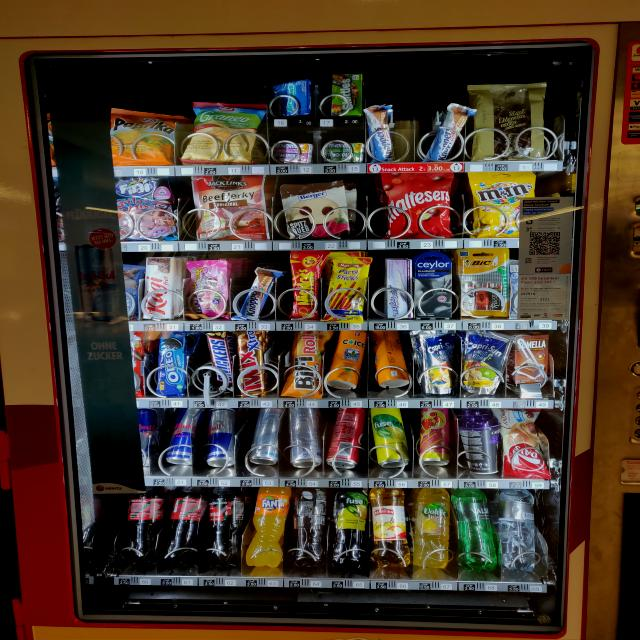7days_croissantschoko_packung_80_1_0000000000003: (496, 406, 552, 479)
airwaves_menthoneucalyptus_riegel_14_1_50173167: (272, 80, 311, 116)
bifi_roll__50__4251097402635: (282, 331, 327, 398)
c-swiss_dosenabisicetea__33__9120025930135: (330, 330, 370, 391), (372, 332, 410, 389)
caferoyal_classicmacchiato__33__7617014164487: (459, 416, 502, 478)
caprisun_multivitamin__20__4000177605004: (408, 329, 458, 399), (459, 333, 510, 398)
coke__dose_33__54491472: (328, 408, 368, 468)
coke__flasche_50__54491472: (117, 486, 164, 562), (162, 489, 208, 564)
coke_zero_flasche_50__5449000131836: (202, 489, 247, 567)
comella_schokodrink__33__7613100037253: (511, 335, 551, 386)
fanta___50__40822938: (242, 488, 290, 572)
fini_galaxymix_packung_100_1_8410525150364: (120, 174, 174, 241)
fini_jellykisses_packung_80_1_8410525116704: (187, 253, 230, 316)
fuse_lemon__50__5449000235947: (331, 488, 372, 570)
fuse_lemon_dose_33__5449000235947: (368, 407, 415, 469)
fuse_peach__50__5449000236623: (290, 488, 330, 570)
jacklinks_beefjerkyorginal__25__4047751730219: (194, 174, 266, 242)
jlbrichard_gauffrechoko__90__5410495002079: (473, 78, 550, 160)
kagi___50__7610046000259: (140, 256, 180, 320)
knoppers_riegel____4035800488808: (234, 269, 279, 320)
lorenz_nicnacs__40__4018077798818: (286, 249, 328, 320)
malburner_partysticks__40__7610200279682: (327, 256, 368, 323)
maltesers___100__5000159023061: (382, 167, 462, 240)
mnms_gelb__45__40111445: (472, 173, 540, 239)
oreo___66__84100733: (155, 332, 189, 397)
ramseier_schorle__50__7610057012456: (372, 488, 412, 570)
redbull___33__90162909: (201, 405, 241, 470), (161, 406, 200, 468), (287, 408, 324, 469)
redbull_light__33__90162800: (245, 408, 282, 464)
skittles_sour_riegel_51_1_0000000000004: (328, 72, 367, 118)
snickers___50__5000159461122: (210, 332, 232, 396)
stimorol_spearmint_riegel_14_1_0000000000005: (327, 140, 367, 161)
stimorol_wildcherry_riegel_14_1_57060330: (274, 139, 313, 163)
tiki_himbeer_brause__50__00000000009342: (417, 406, 452, 468)
twix___50__5000159459228: (234, 331, 270, 398)
valser_classic__50__76404160: (457, 490, 498, 570)
valser_still__50__7610335002575: (492, 489, 540, 573)
volvic_pinapple__50__305764335648: (412, 487, 456, 571)
zweifel_graneochilli__100__7610095184009: (182, 99, 266, 165)
zweifel_paprika__90__7610095013002: (110, 108, 182, 166)
